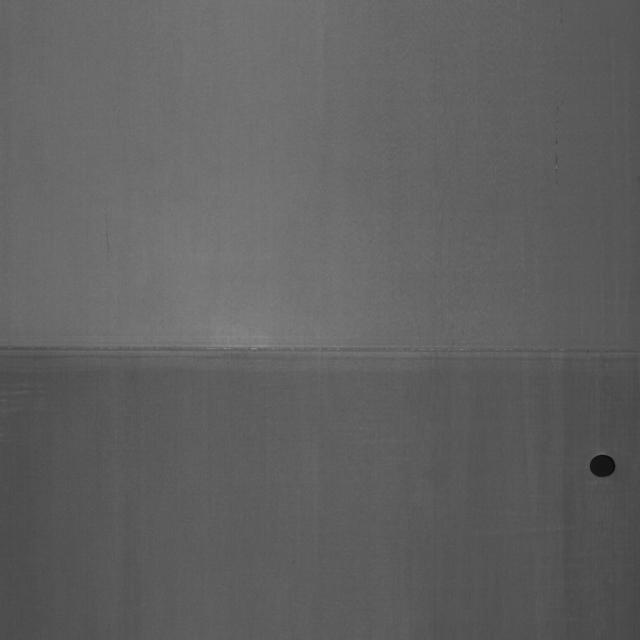crease: (5, 324, 640, 384)
crescent_gap: (582, 443, 622, 491)
